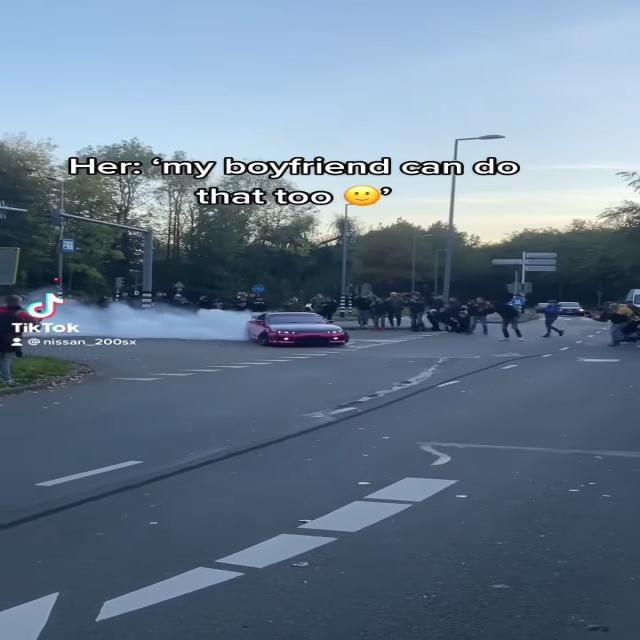car: (246, 311, 352, 351)
